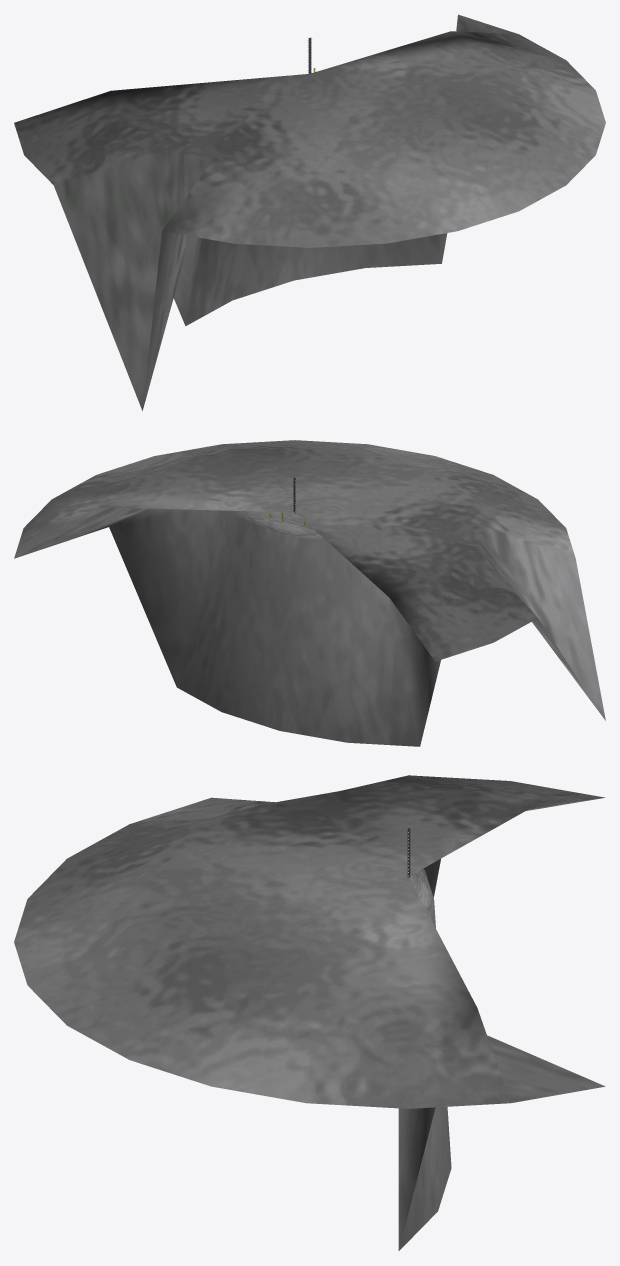
Rendered from city.obj.
The picture shows the model from 3 angles, top to bottom: view 1: azimuth 30°, elevation 25°; view 2: azimuth 150°, elevation 25°; view 3: azimuth 270°, elevation 25°; orthographic projection. The views are drawn at different scales.
Visible parts, largest first — view 1: polygon0_sky01; view 2: polygon0_sky01; view 3: polygon0_sky01.
Boxes of the visible parts, x1,y1,x2,y2 form: polygon0_sky01: [14, 14, 605, 410]; polygon0_sky01: [14, 440, 605, 746]; polygon0_sky01: [14, 775, 605, 1250].
Bounding box in the file's own units: 50.66 × 24.05 × 38.
